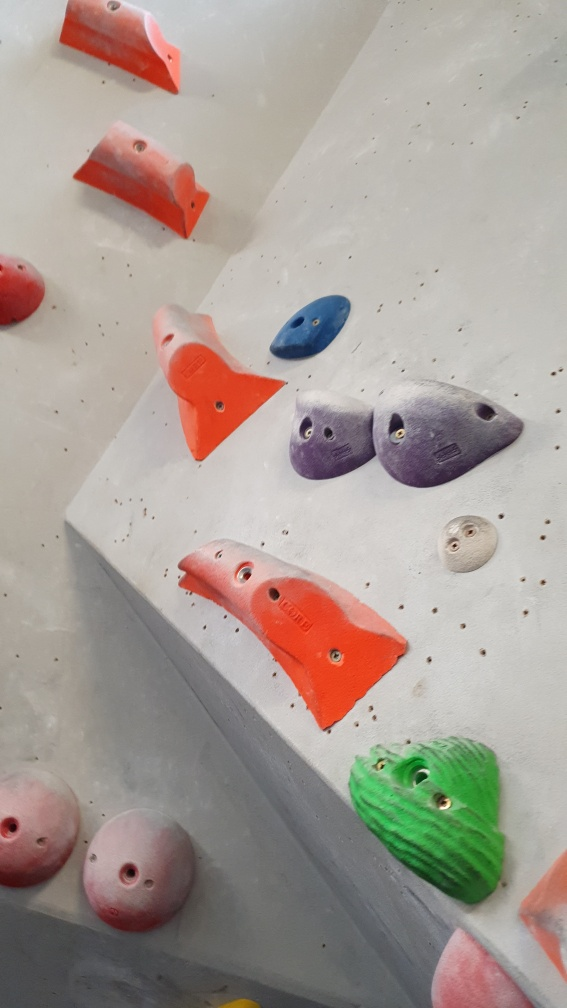Jug: (347, 735, 511, 905), (372, 378, 524, 484), (286, 383, 376, 484)
Pinch: (178, 541, 413, 736), (148, 301, 286, 465), (73, 115, 216, 243), (57, 1, 185, 98)
Sloper: (82, 812, 198, 934), (1, 771, 85, 887), (1, 251, 46, 331)
